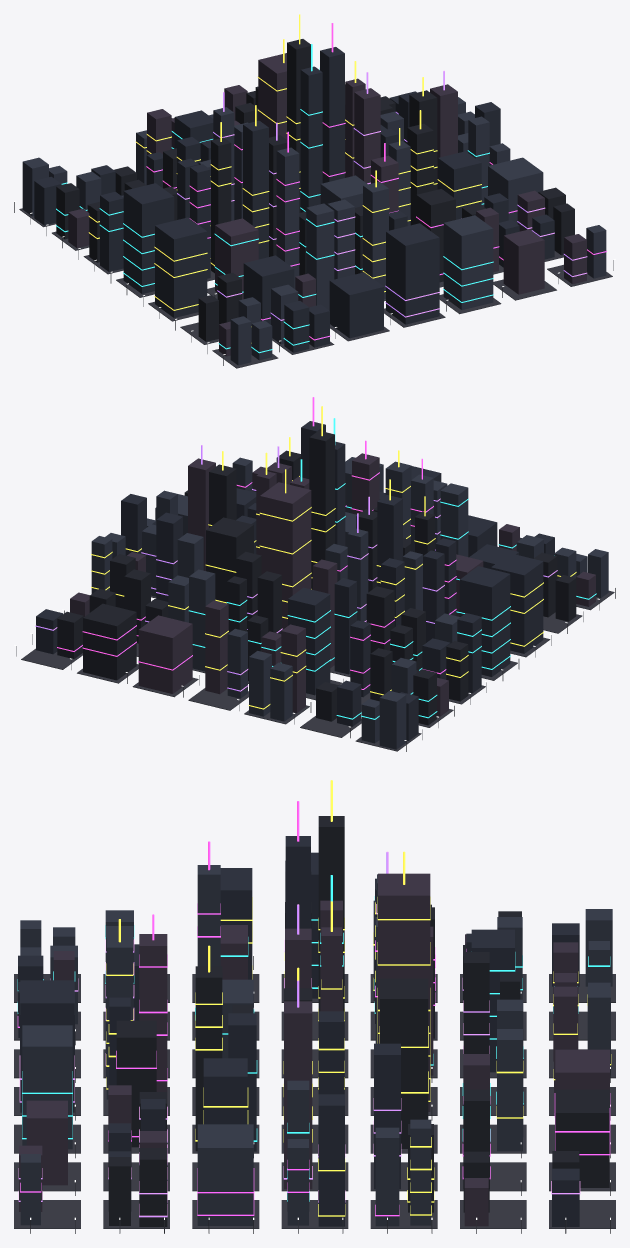
The model's file is world.glb.
The picture shows the model from 3 angles, top to bottom: view 1: azimuth 30°, elevation 25°; view 2: azimuth 150°, elevation 25°; view 3: azimuth 270°, elevation 25°; orthographic projection. The views are drawn at different scales.
Parts seen in each view (by area): view 1: Tower.30.0, Tower.02.0, Tower.40.0, Tower.03.0, Tower.33.0, Tower.20.0, Tower.33.1, Tower.23.0, Tower.22.0, Tower.21.0, Tower.50.0, Tower.31.0 (+56 smaller); view 2: Tower.34.0, Tower.03.0, Tower.46.0, Tower.56.0, Tower.02.0, Tower.33.2, Tower.25.0, Tower.44.0, Tower.36.1, Tower.45.2, Tower.24.2, Tower.54.1 (+68 smaller); view 3: Tower.34.0, Tower.62.0, Tower.44.0, Tower.56.0, Tower.40.0, Tower.63.3, Tower.31.3, Tower.41.0, Tower.42.1, Tower.45.3, Tower.53.1, Tower.50.0 (+54 smaller).
Boxes of the visible parts, x1,y1,x2,y2 form: Tower.30.0: (386,223,439,324); Tower.02.0: (155,217,207,317); Tower.40.0: (443,215,493,309); Tower.03.0: (123,183,174,293); Tower.33.0: (300,66,322,212); Tower.20.0: (329,272,383,338); Tower.33.1: (320,47,344,183); Tower.23.0: (243,120,268,259); Tower.22.0: (276,147,299,288); Tower.21.0: (306,203,334,310); Tower.50.0: (503,229,544,294); Tower.31.0: (363,181,388,299); Tower.34.0: (260,482,311,629); Tower.03.0: (459,566,510,676); Tower.46.0: (138,615,192,693); Tower.56.0: (83,603,136,680); Tower.02.0: (491,553,543,653); Tower.33.2: (309,430,334,589); Tower.25.0: (288,587,330,695); Tower.44.0: (206,517,253,602); Tower.36.1: (205,600,228,694); Tower.45.2: (189,569,215,671); Tower.24.2: (334,578,356,674); Tower.54.1: (156,512,182,601); Tower.34.0: (378,873,430,1111); Tower.62.0: (197,1124,253,1225); Tower.44.0: (380,978,428,1148); Tower.56.0: (555,1089,609,1187); Tower.40.0: (22,1025,72,1149); Tower.63.3: (318,1094,344,1226); Tower.31.3: (139,934,167,1106); Tower.41.0: (116,1020,156,1147); Tower.42.1: (195,966,222,1151); Tower.45.3: (497,1029,522,1151); Tower.53.1: (284,1001,312,1189); Tower.50.0: (26,1100,67,1185).
Size of what is drawn, in the model's own units: 225 by 124 by 216.
